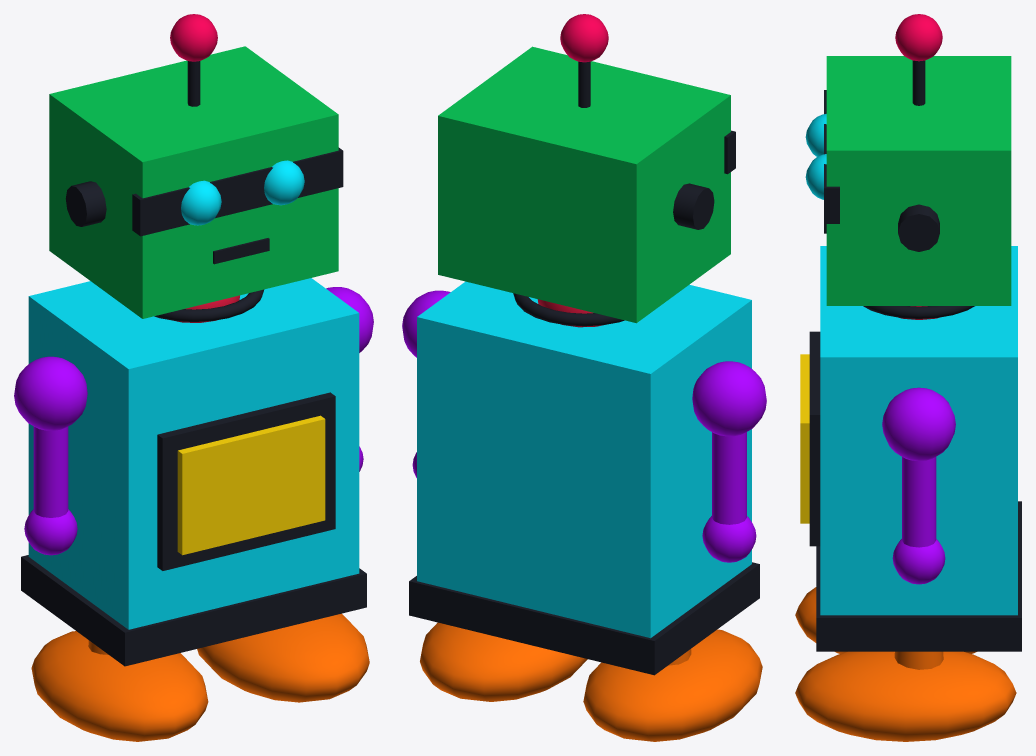
File: volt.obj
3 renders of one model, left to right at view 1: azimuth 30°, elevation 25°; view 2: azimuth 150°, elevation 25°; view 3: azimuth 270°, elevation 25°, orthographic. The views are drawn at different scales.
Parts seen in each view (by area): view 1: Torso, Head_Main, Power_Panel_Belly, Foot_L, Waist_Belt, Foot_R, Chest_Plate_Backing, Visor_Frame, Shoulder_L, Arm_Limb_L, Fist_L, Antenna_Beacon (+7 smaller); view 2: Torso, Head_Main, Waist_Belt, Foot_L, Foot_R, Shoulder_L, Arm_Limb_L, Fist_L, Antenna_Beacon, Ear_Audio_L, Neck_Collar_Ring, Shoulder_R (+1 smaller); view 3: Torso, Head_Main, Foot_R, Waist_Belt, Shoulder_R, Arm_Limb_R, Chest_Plate_Backing, Fist_R, Antenna_Beacon, Power_Panel_Belly, Ear_Audio_R, Neck_Collar_Ring (+6 smaller).
Part boxes in pixels (x1=…): Torso: x1=28, y1=278, x2=359, y2=629; Head_Main: x1=49, y1=46, x2=338, y2=318; Power_Panel_Belly: x1=177, y1=415, x2=325, y2=555; Foot_L: x1=31, y1=631, x2=208, y2=741; Waist_Belt: x1=21, y1=555, x2=366, y2=666; Foot_R: x1=197, y1=613, x2=369, y2=702; Chest_Plate_Backing: x1=157, y1=392, x2=335, y2=570; Visor_Frame: x1=132, y1=147, x2=343, y2=236; Shoulder_L: x1=14, y1=356, x2=87, y2=430; Arm_Limb_L: x1=33, y1=426, x2=68, y2=517; Fist_L: x1=24, y1=509, x2=77, y2=555; Antenna_Beacon: x1=170, y1=14, x2=217, y2=61; Torso: x1=417, y1=281, x2=751, y2=638; Head_Main: x1=438, y1=46, x2=730, y2=323; Waist_Belt: x1=409, y1=562, x2=759, y2=675; Foot_L: x1=583, y1=629, x2=762, y2=741; Foot_R: x1=420, y1=622, x2=587, y2=701; Shoulder_L: x1=692, y1=361, x2=766, y2=436; Arm_Limb_L: x1=712, y1=432, x2=746, y2=524; Fist_L: x1=702, y1=516, x2=756, y2=562; Antenna_Beacon: x1=560, y1=14, x2=608, y2=62; Ear_Audio_L: x1=673, y1=183, x2=714, y2=229; Neck_Collar_Ring: x1=513, y1=293, x2=624, y2=326; Shoulder_R: x1=402, y1=290, x2=450, y2=357; Torso: x1=820, y1=246, x2=1017, y2=615; Head_Main: x1=826, y1=56, x2=1011, y2=305; Foot_R: x1=795, y1=651, x2=1016, y2=741; Waist_Belt: x1=816, y1=501, x2=1021, y2=651; Shoulder_R: x1=882, y1=387, x2=955, y2=461; Arm_Limb_R: x1=902, y1=457, x2=936, y2=547; Chest_Plate_Backing: x1=809, y1=331, x2=820, y2=546; Fist_R: x1=892, y1=539, x2=945, y2=584; Antenna_Beacon: x1=895, y1=14, x2=942, y2=61; Power_Panel_Belly: x1=800, y1=354, x2=809, y2=523; Ear_Audio_R: x1=898, y1=204, x2=939, y2=251; Neck_Collar_Ring: x1=863, y1=306, x2=974, y2=318.
Bounding box in the file's own units: 1.52 × 2.82 × 0.86.
